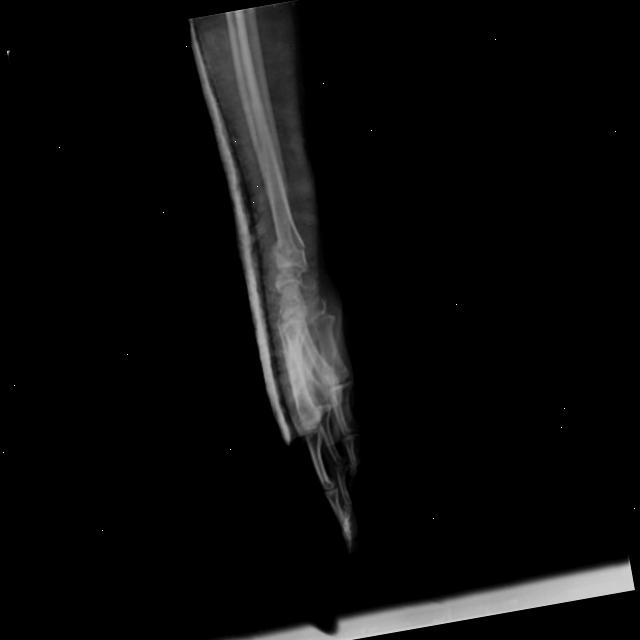Fracture: (265, 229, 309, 261)
